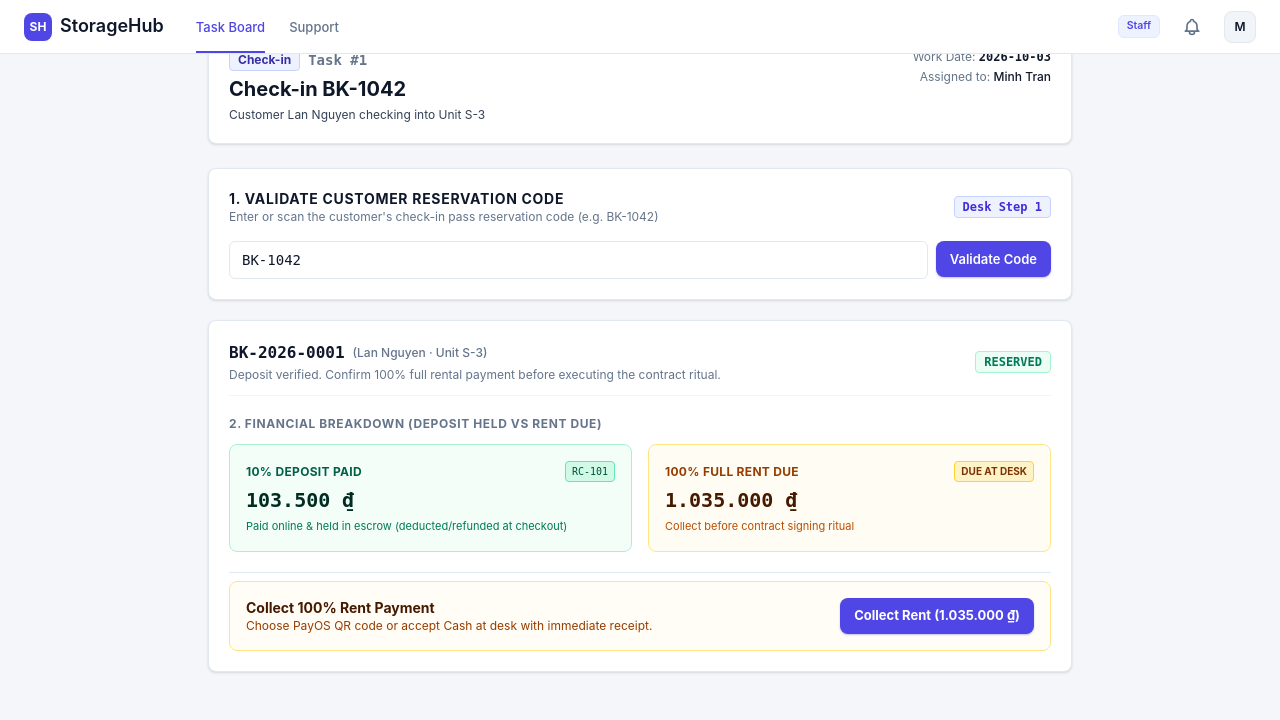
Test case: Story 3.3: Check-in Task — Validate Reservation + 100% Rent Payment › opens payment modal for collecting 100% rent with PayOS and Cash methods
(page scrolled)
Click the button with test id "collect-rent-btn". click: (937, 616)
box: [840,598,1034,634]
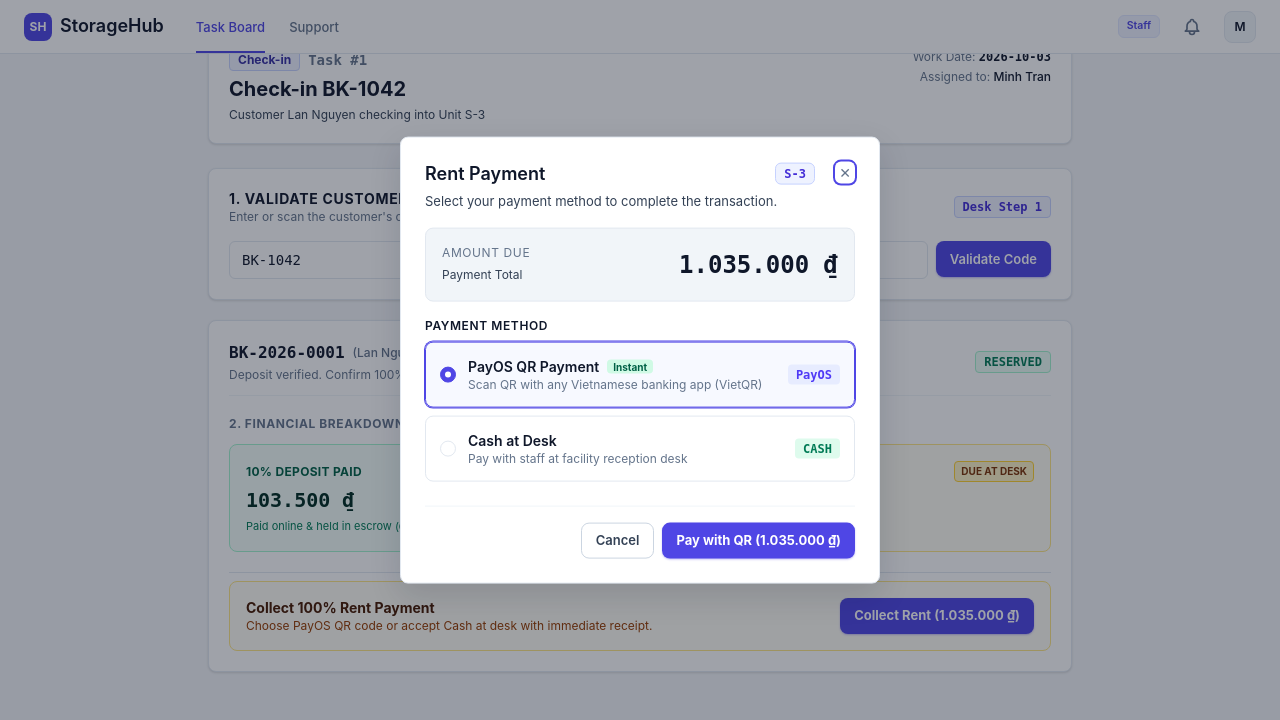
Check: the dialog with test id "payment-modal" is shown, box [400,137,880,583]
Check: the heading "Rent Payment" is shown, box [425,162,545,186]
Check: the element with test id "payment-method-payos" is shown, box [425,341,855,407]
